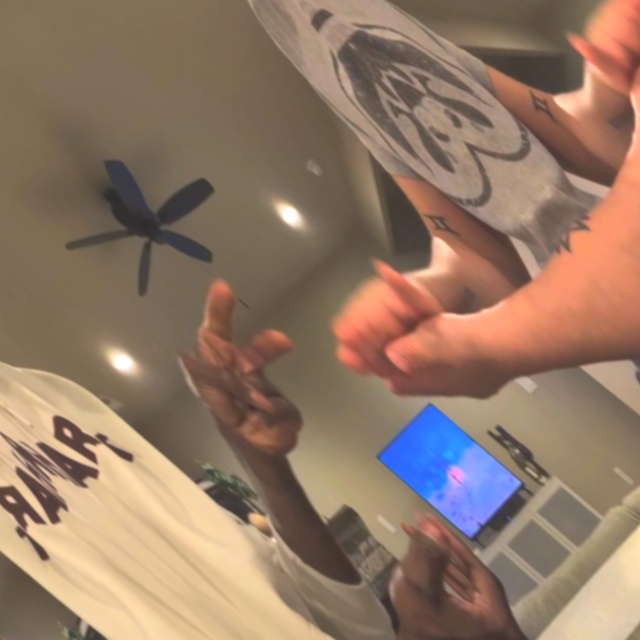Paper: (141, 273, 349, 474)
Scissors: (0, 584, 83, 640)
